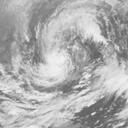cyclone: (19, 28, 85, 98)
